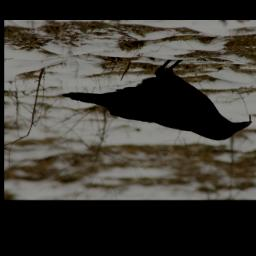Crow: (63, 57, 256, 145)
